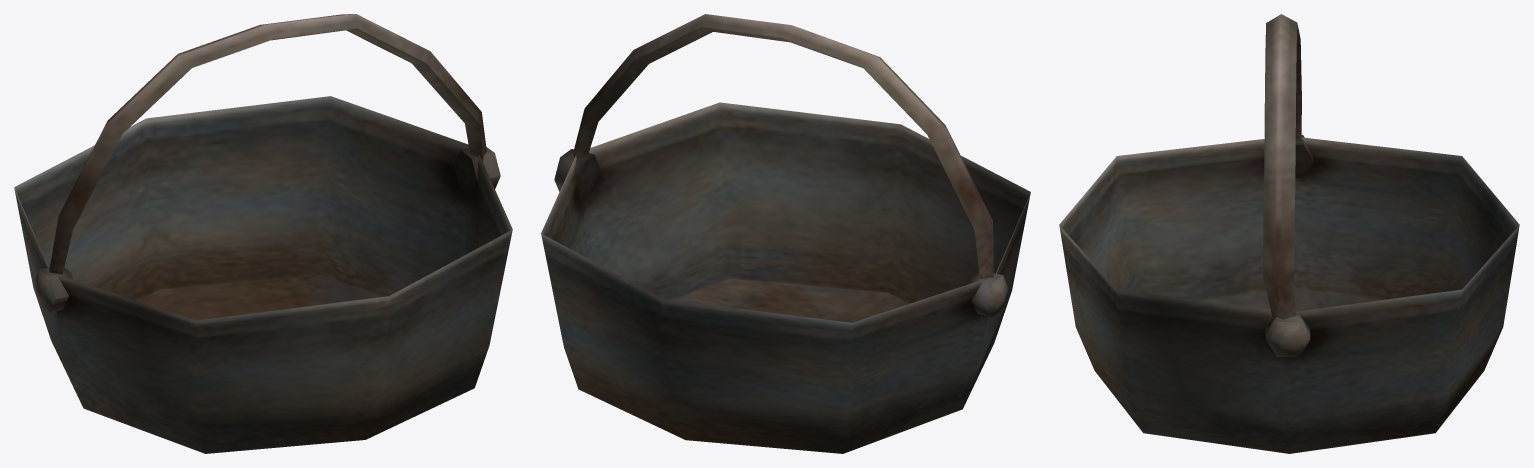
Rendered from pot_B.fbx.
3 views of the same model, side by side, from view 1: azimuth 30°, elevation 25°; view 2: azimuth 150°, elevation 25°; view 3: azimuth 270°, elevation 25° (orthographic). The views are drawn at different scales.
Visible parts, largest first — view 1: potB_basin6, potB_basin, potB_handle, potB_stud01, potB_stud02; view 2: potB_basin6, potB_basin, potB_handle, potB_stud01, potB_stud02; view 3: potB_basin6, potB_basin, potB_handle, potB_stud01, potB_stud02.
Boxes of the visible parts, left/top/right/bottom form: potB_basin6: left=14, top=96, right=512, bottom=453; potB_basin: left=14, top=96, right=510, bottom=452; potB_handle: left=49, top=14, right=486, bottom=274; potB_stud01: left=454, top=147, right=500, bottom=195; potB_stud02: left=33, top=267, right=72, bottom=312; potB_basin6: left=541, top=102, right=1030, bottom=453; potB_basin: left=543, top=103, right=1029, bottom=452; potB_handle: left=573, top=14, right=993, bottom=278; potB_stud01: left=554, top=149, right=600, bottom=198; potB_stud02: left=970, top=273, right=1008, bottom=317; potB_basin6: left=1059, top=137, right=1519, bottom=453; potB_basin: left=1060, top=139, right=1518, bottom=450; potB_handle: left=1262, top=14, right=1301, bottom=320; potB_stud01: left=1265, top=311, right=1310, bottom=356; potB_stud02: left=1295, top=135, right=1313, bottom=177.
Bounding box in the file's own units: 95.13 × 68.6 × 87.78.
Materials: 1 (1 with a texture image).
